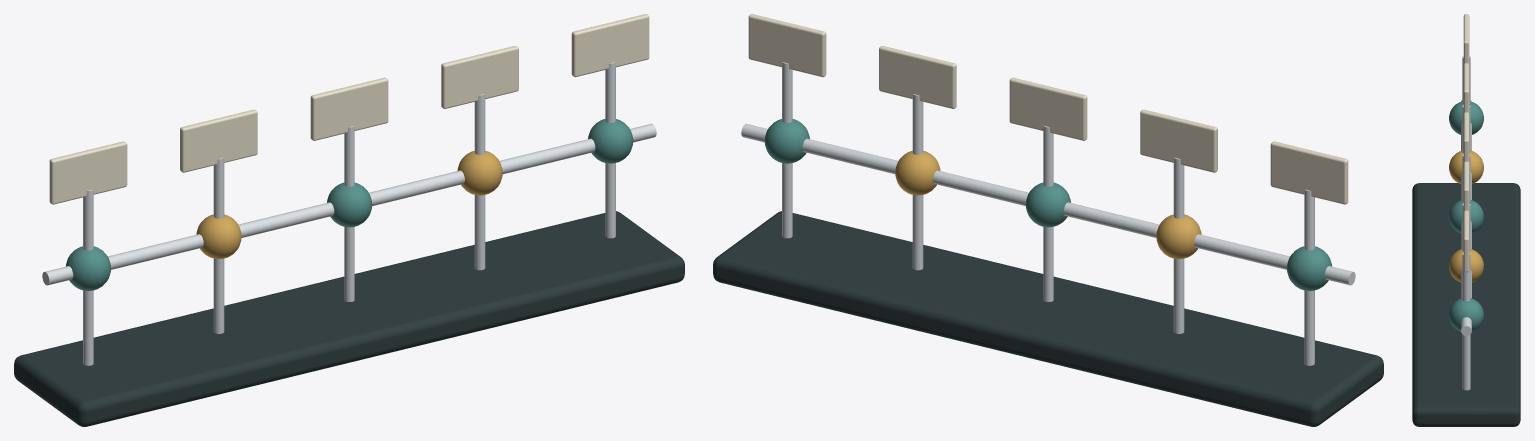
Rendered from timeline.glb.
3 views of the same model, side by side, from view 1: azimuth 30°, elevation 25°; view 2: azimuth 150°, elevation 25°; view 3: azimuth 270°, elevation 25° (orthographic). The views are drawn at different scales.
Parts seen in each view (by area): view 1: timeline; view 2: timeline; view 3: timeline.
Part boxes in pixels (x1,y1,x2,y2): timeline: [14, 14, 684, 426]; timeline: [713, 14, 1383, 426]; timeline: [1412, 14, 1520, 426].
Bounding box in the file's own units: 2 × 0.77 × 0.4.
